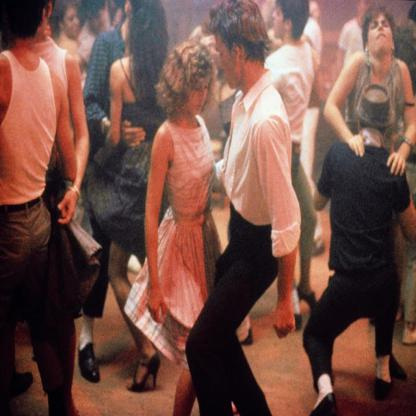face: (216, 32, 242, 88), (184, 71, 211, 115), (368, 13, 393, 51), (273, 5, 290, 39), (62, 7, 79, 37), (89, 4, 105, 33), (125, 1, 134, 14)
